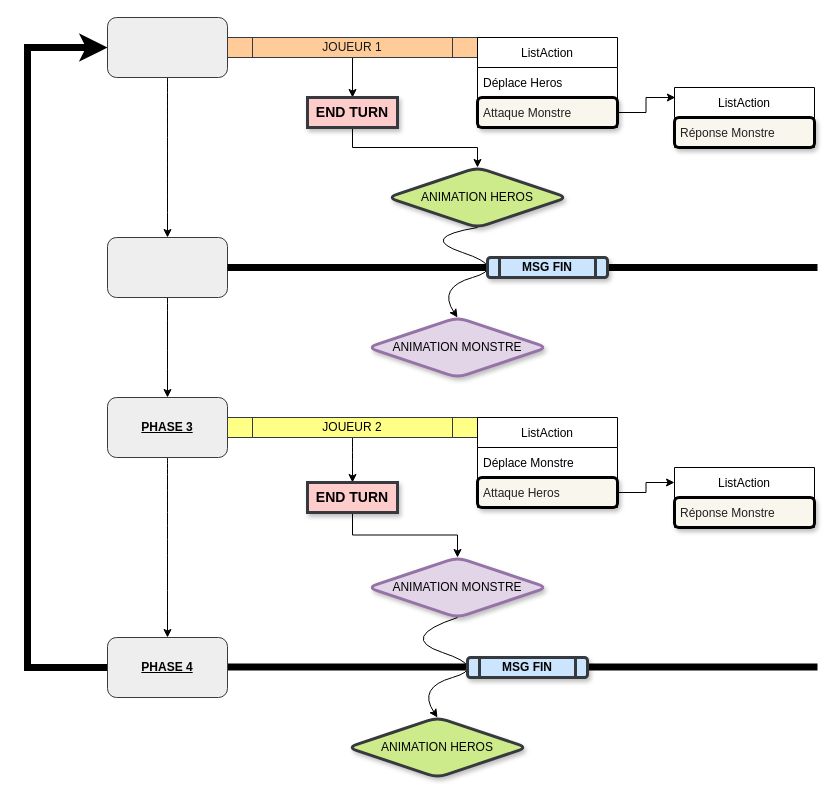
The diagram is 839 pixels wide and 803 high, and some of its shapes have lost their labels. Each missing label, with the centre of its shape:
PHASE 1: (x=167, y=47)
PHASE 2: (x=167, y=267)
